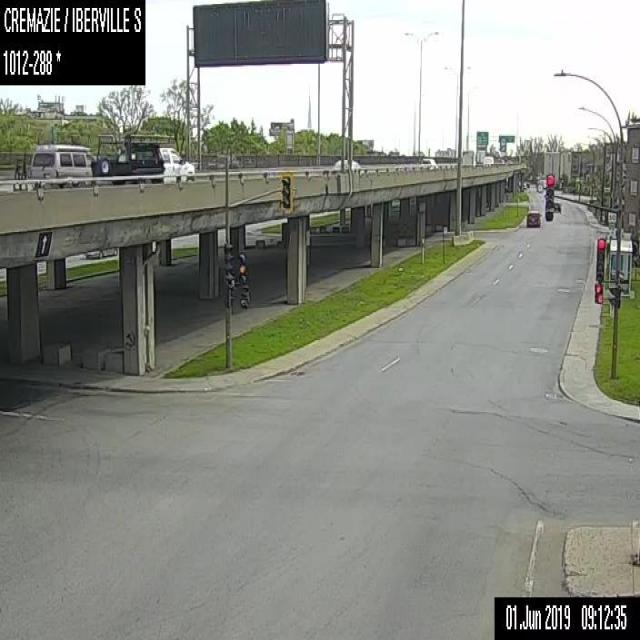vehicle: (90, 132, 195, 186), (27, 136, 96, 189), (333, 157, 359, 173), (462, 148, 476, 166), (525, 210, 540, 226), (421, 156, 437, 170), (552, 199, 561, 212), (482, 155, 493, 165)
